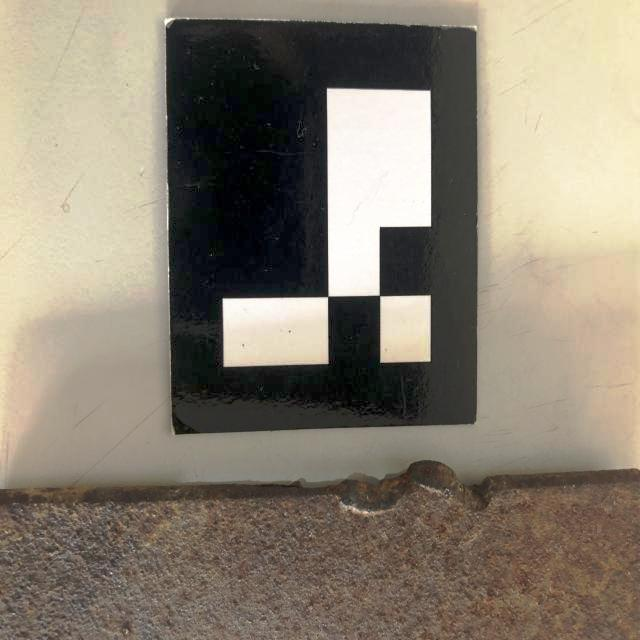Corrosion: (0, 459, 640, 640)
